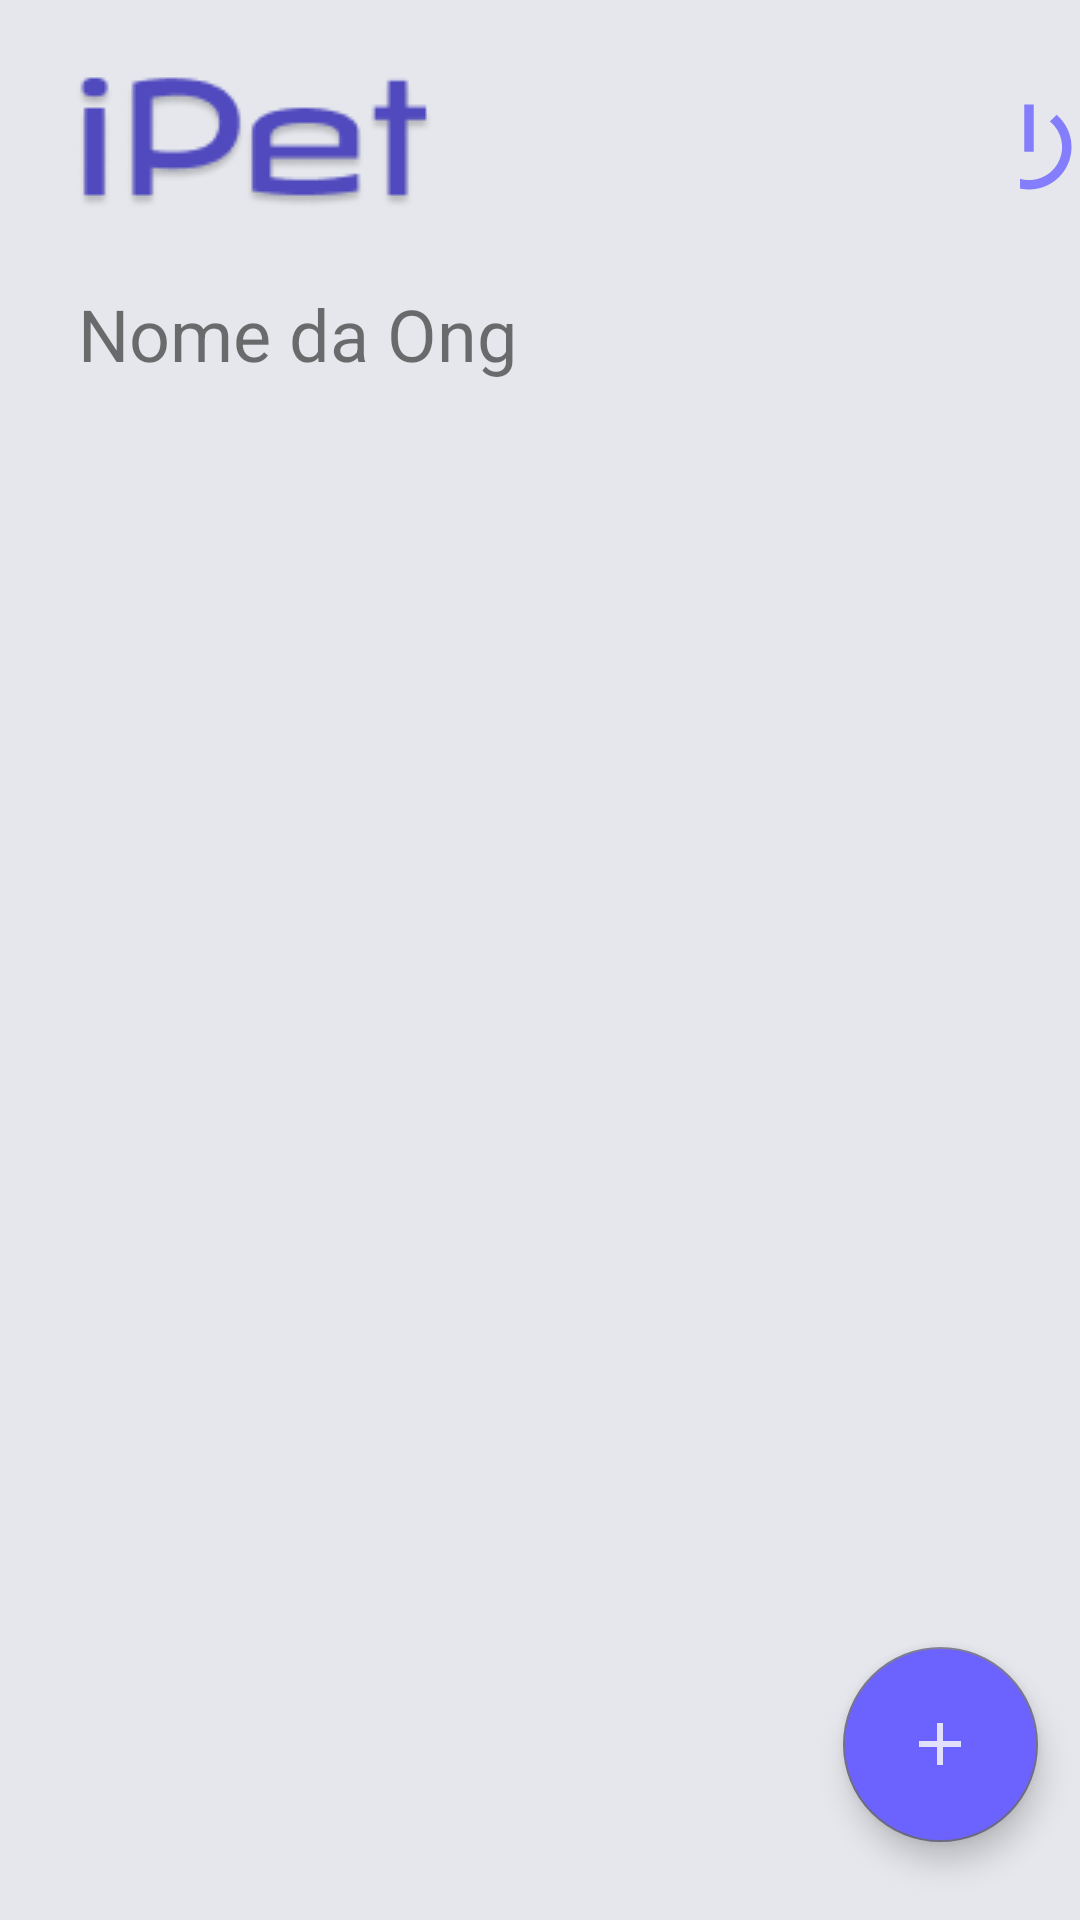

Locate icon controls on the screen. Image size 1080x1920, boxes as rect(x1, y1, x2, y2).
add: rect(843, 1647, 1038, 1842)
